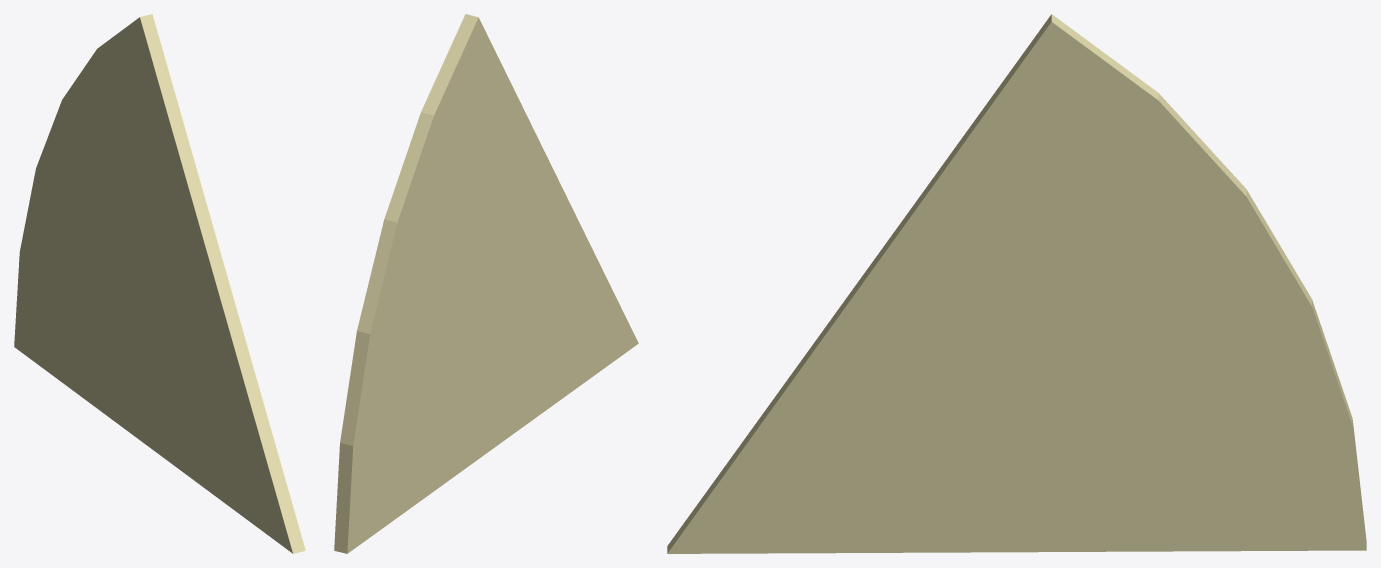
3 views of the same model, side by side, from view 1: azimuth 30°, elevation 25°; view 2: azimuth 150°, elevation 25°; view 3: azimuth 270°, elevation 25° (orthographic). The views are drawn at different scales.
Visible parts, largest first — view 1: Circle; view 2: Circle; view 3: Circle.
Boxes of the visible parts, left/top/right/bottom form: Circle: left=14, top=14, right=305, bottom=553; Circle: left=334, top=14, right=638, bottom=553; Circle: left=667, top=14, right=1366, bottom=553.
Bounding box in the file's own units: 0.0144 × 0.4623 × 0.5507.
